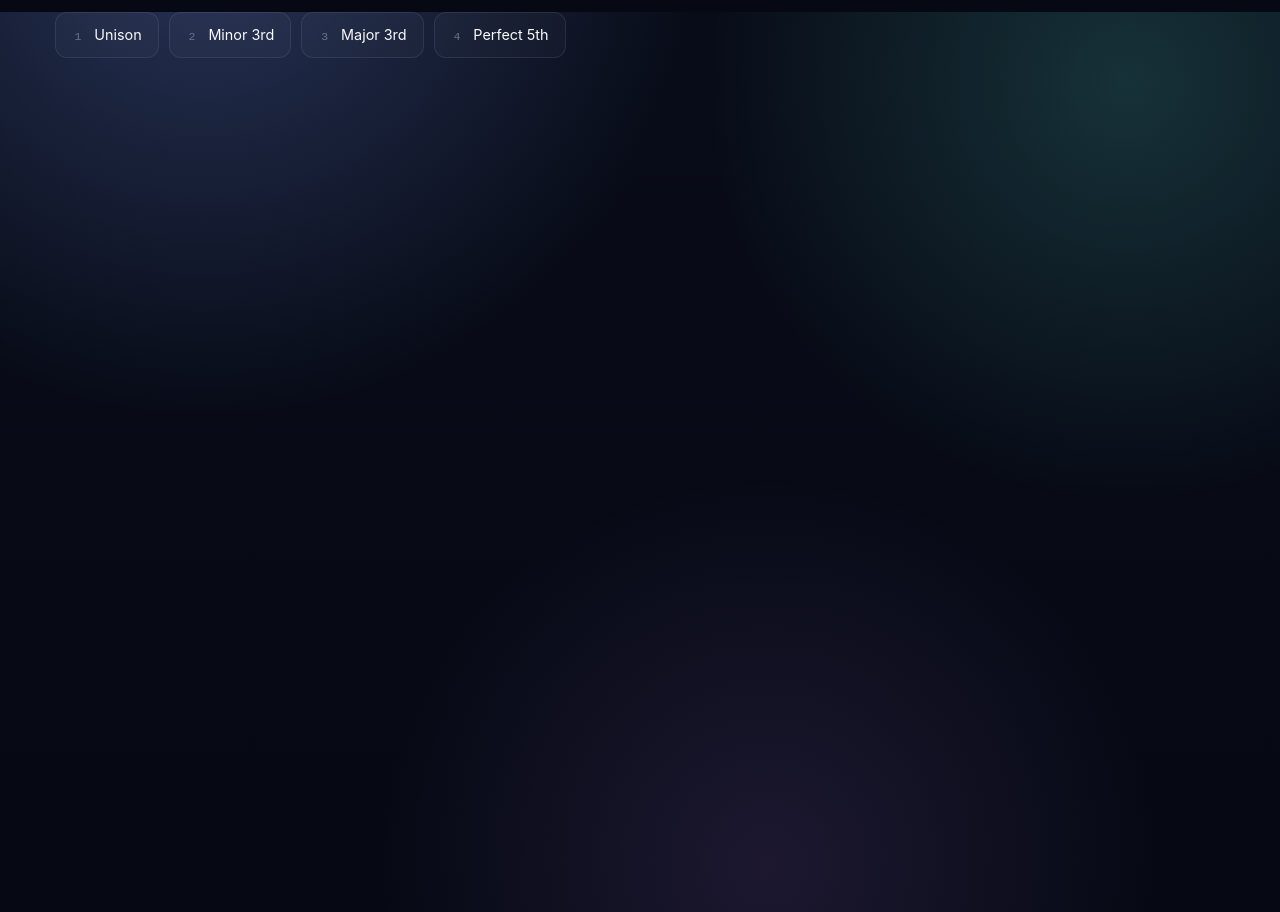
Test case: AnswerPad › marks the right answer and the wrong pick, then locks the pad
Click the button with class "ear-choice" showing "1 Unison" at (107, 35), box x1=54 y1=12 x2=159 y2=58
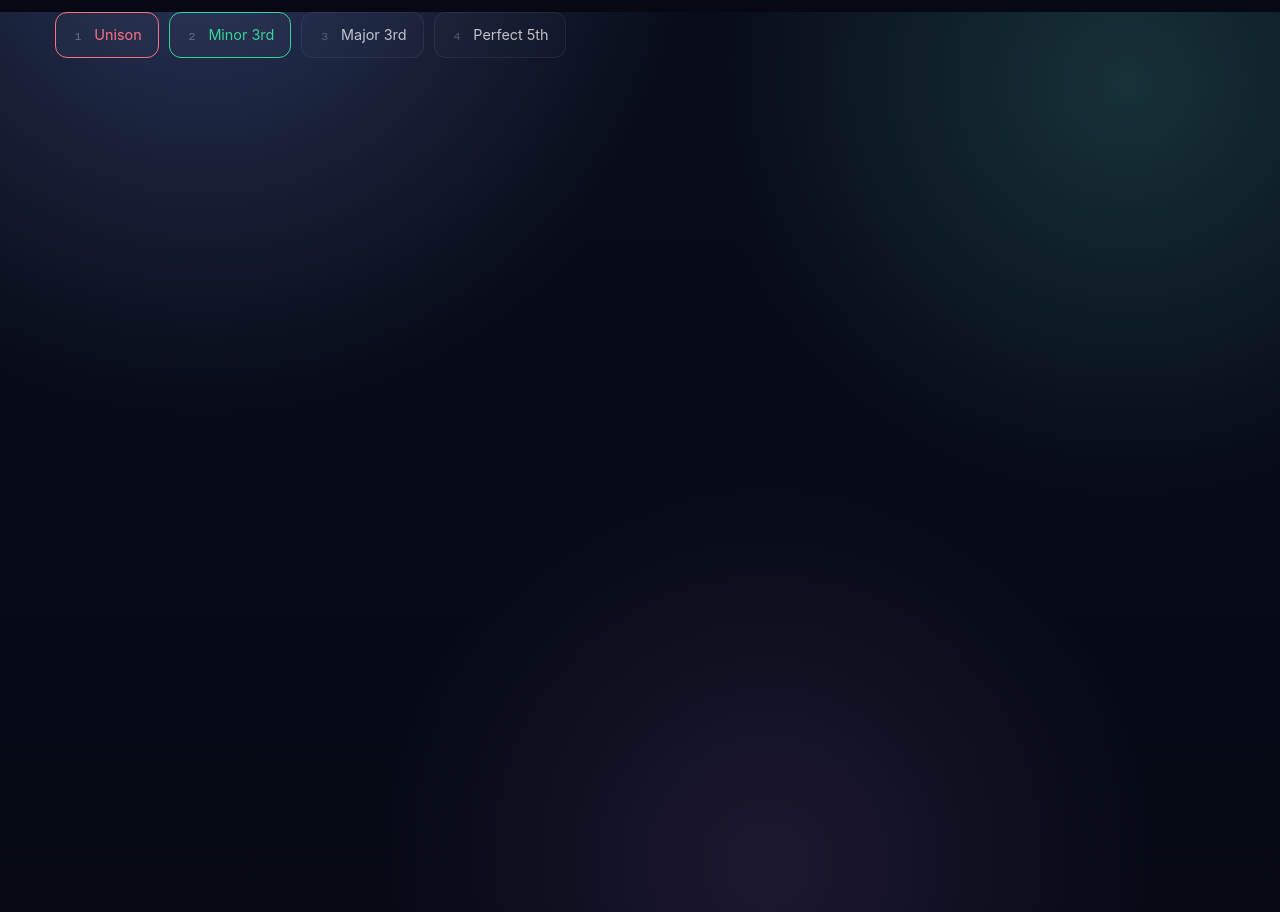
Expected: the number of buttons with class "is-right" is 1, x1=169 y1=12 x2=291 y2=58
Expected: the button with class "ear-choice" showing "1 Unison" is disabled, x1=54 y1=12 x2=159 y2=58
